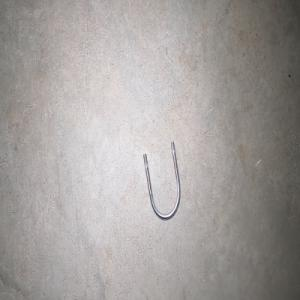ClampPart: (142, 141, 181, 221)
